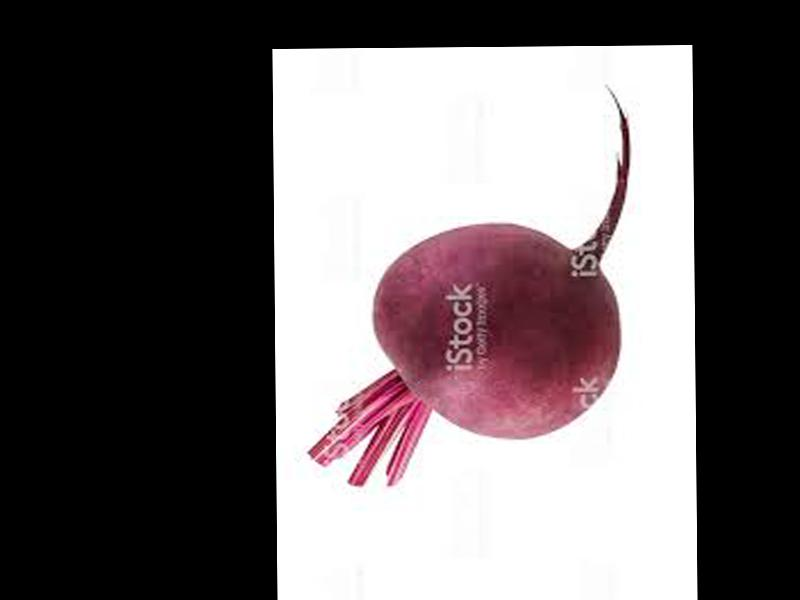Beet: (305, 86, 630, 488)
